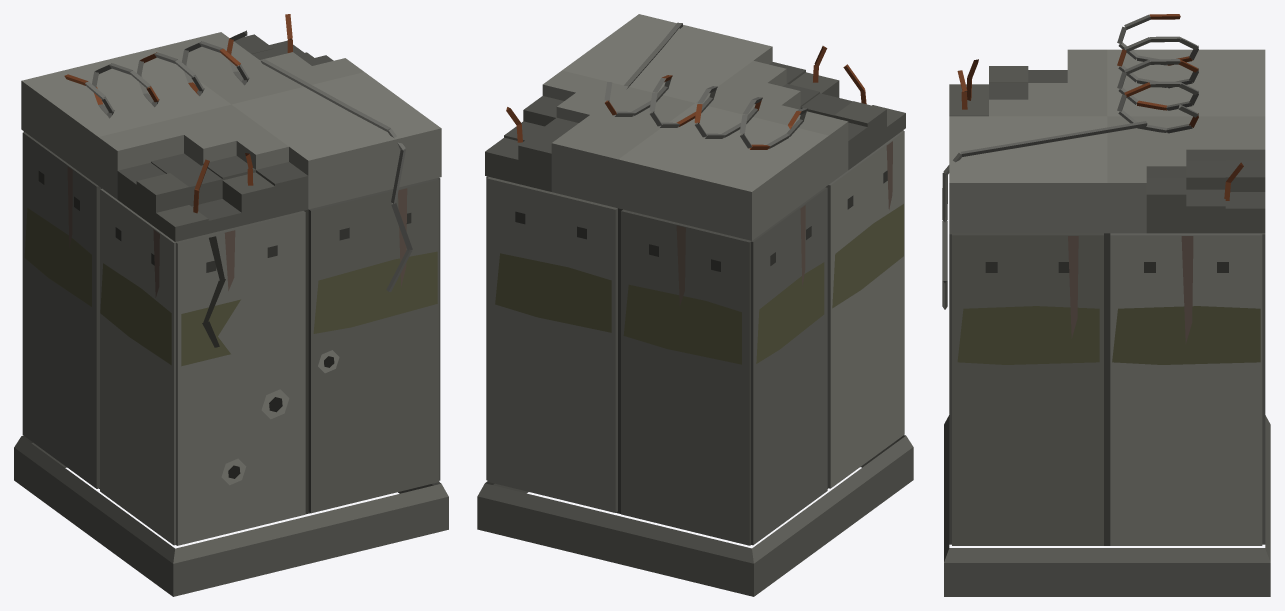
The model's file is parede_concreto_2.glb.
3 views of the same model, side by side, from view 1: azimuth 30°, elevation 25°; view 2: azimuth 150°, elevation 25°; view 3: azimuth 270°, elevation 25° (orthographic). The views are drawn at different scales.
Visible parts, largest first — view 1: parede_concreto_2.001; view 2: parede_concreto_2.001; view 3: parede_concreto_2.001.
Boxes of the visible parts, <box> form: parede_concreto_2.001: <box>14,14,448,596</box>; parede_concreto_2.001: <box>477,14,913,596</box>; parede_concreto_2.001: <box>942,14,1270,596</box>.
Size of the model in its own units: 1.66 by 2.52 by 1.66.
